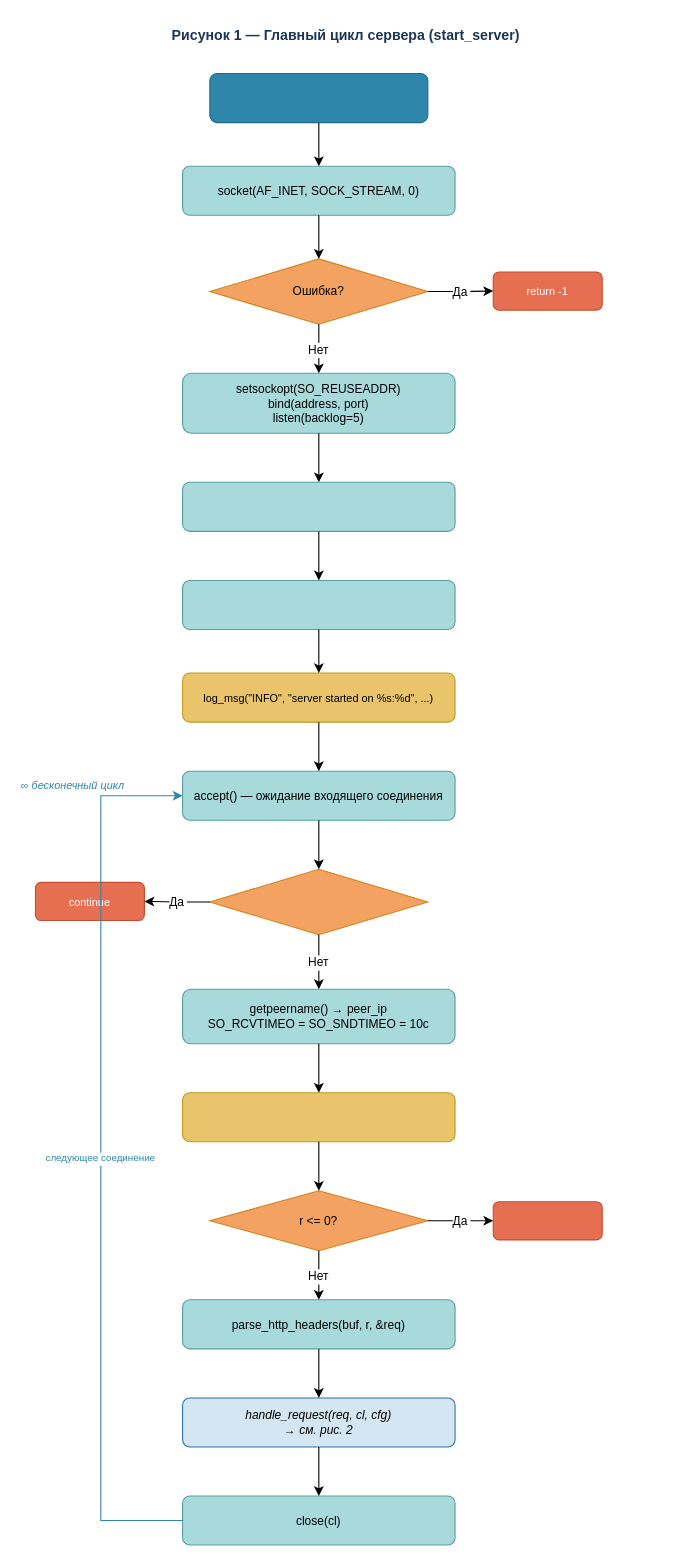
This 691x1564 diagram has some shape labels left out. The shapes that lost their labels are listed below. From the top down, each one's centre as x and y in pixels, then its label:
point 318,97: НАЧАЛО
point 318,506: stat(upload_dir) → mkdir если не существует
point 318,604: signal(SIGPIPE, SIG_IGN)
point 318,901: cl < 0 (ошибка)?
point 318,1117: recv(cl, buf, MAX_HEADER_SIZE)
point 547,1220: close(cl) continue
